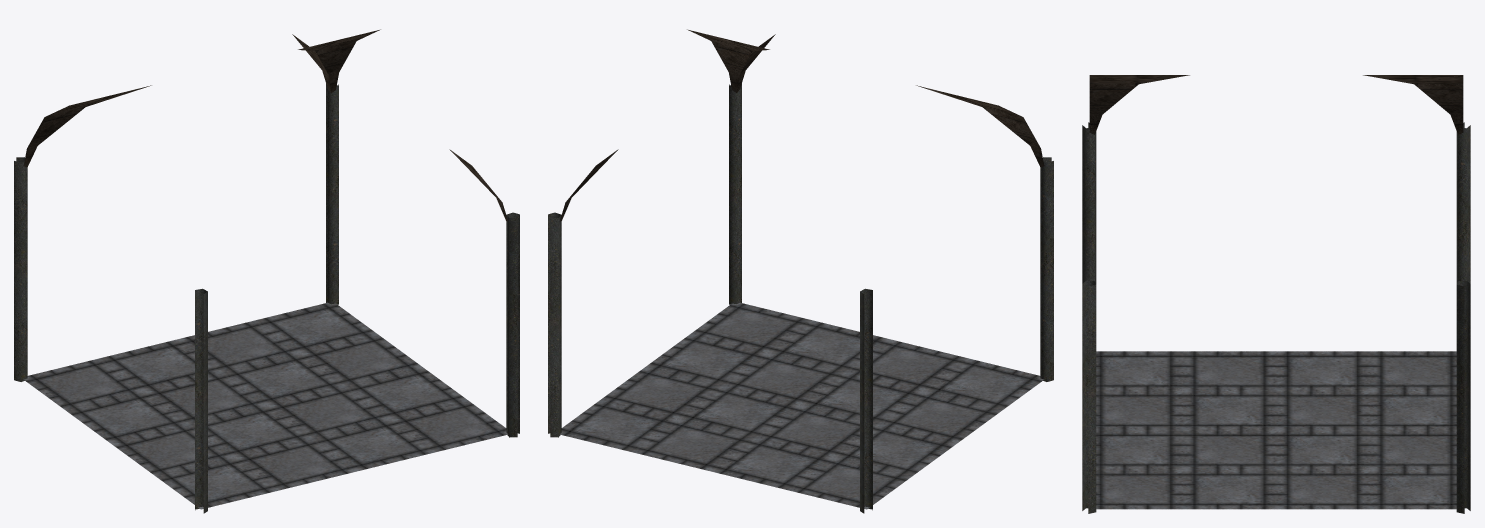
The model's file is CrossRoads.fbx.
The picture shows the model from 3 angles, left to right: view 1: azimuth 30°, elevation 25°; view 2: azimuth 150°, elevation 25°; view 3: azimuth 270°, elevation 25°; orthographic projection. The views are drawn at different scales.
Parts seen in each view (by area): view 1: Plane_015, Plane_008, Cylinder_003, Cylinder, Cylinder_002, Cylinder_001; view 2: Plane_015, Plane_008, Cylinder_001, Cylinder_002, Cylinder, Cylinder_003; view 3: Plane_015, Plane_008, Cylinder_003, Cylinder_001, Cylinder_002, Cylinder.
Boxes of the visible parts, x1,y1,x2,y2 form: Plane_015: (24,302,507,509); Plane_008: (23,29,507,221); Cylinder_003: (506,212,519,437); Cylinder: (14,157,27,381); Cylinder_002: (195,288,207,513); Cylinder_001: (326,83,338,304); Plane_015: (560,302,1043,509); Plane_008: (560,29,1044,221); Cylinder_001: (548,212,561,437); Cylinder_002: (1040,157,1053,381); Cylinder: (860,288,872,513); Cylinder_003: (729,83,741,304); Plane_015: (1096,351,1456,509); Plane_008: (1089,75,1463,134); Cylinder_003: (1082,280,1096,513); Cylinder_001: (1456,280,1470,513); Cylinder_002: (1082,122,1096,284); Cylinder: (1456,122,1470,284).
Size of the model in its own units: 4.16 by 4 by 4.16.
